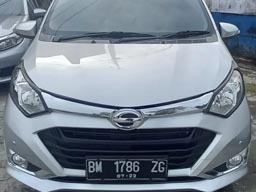plat: (85, 158, 166, 173)
